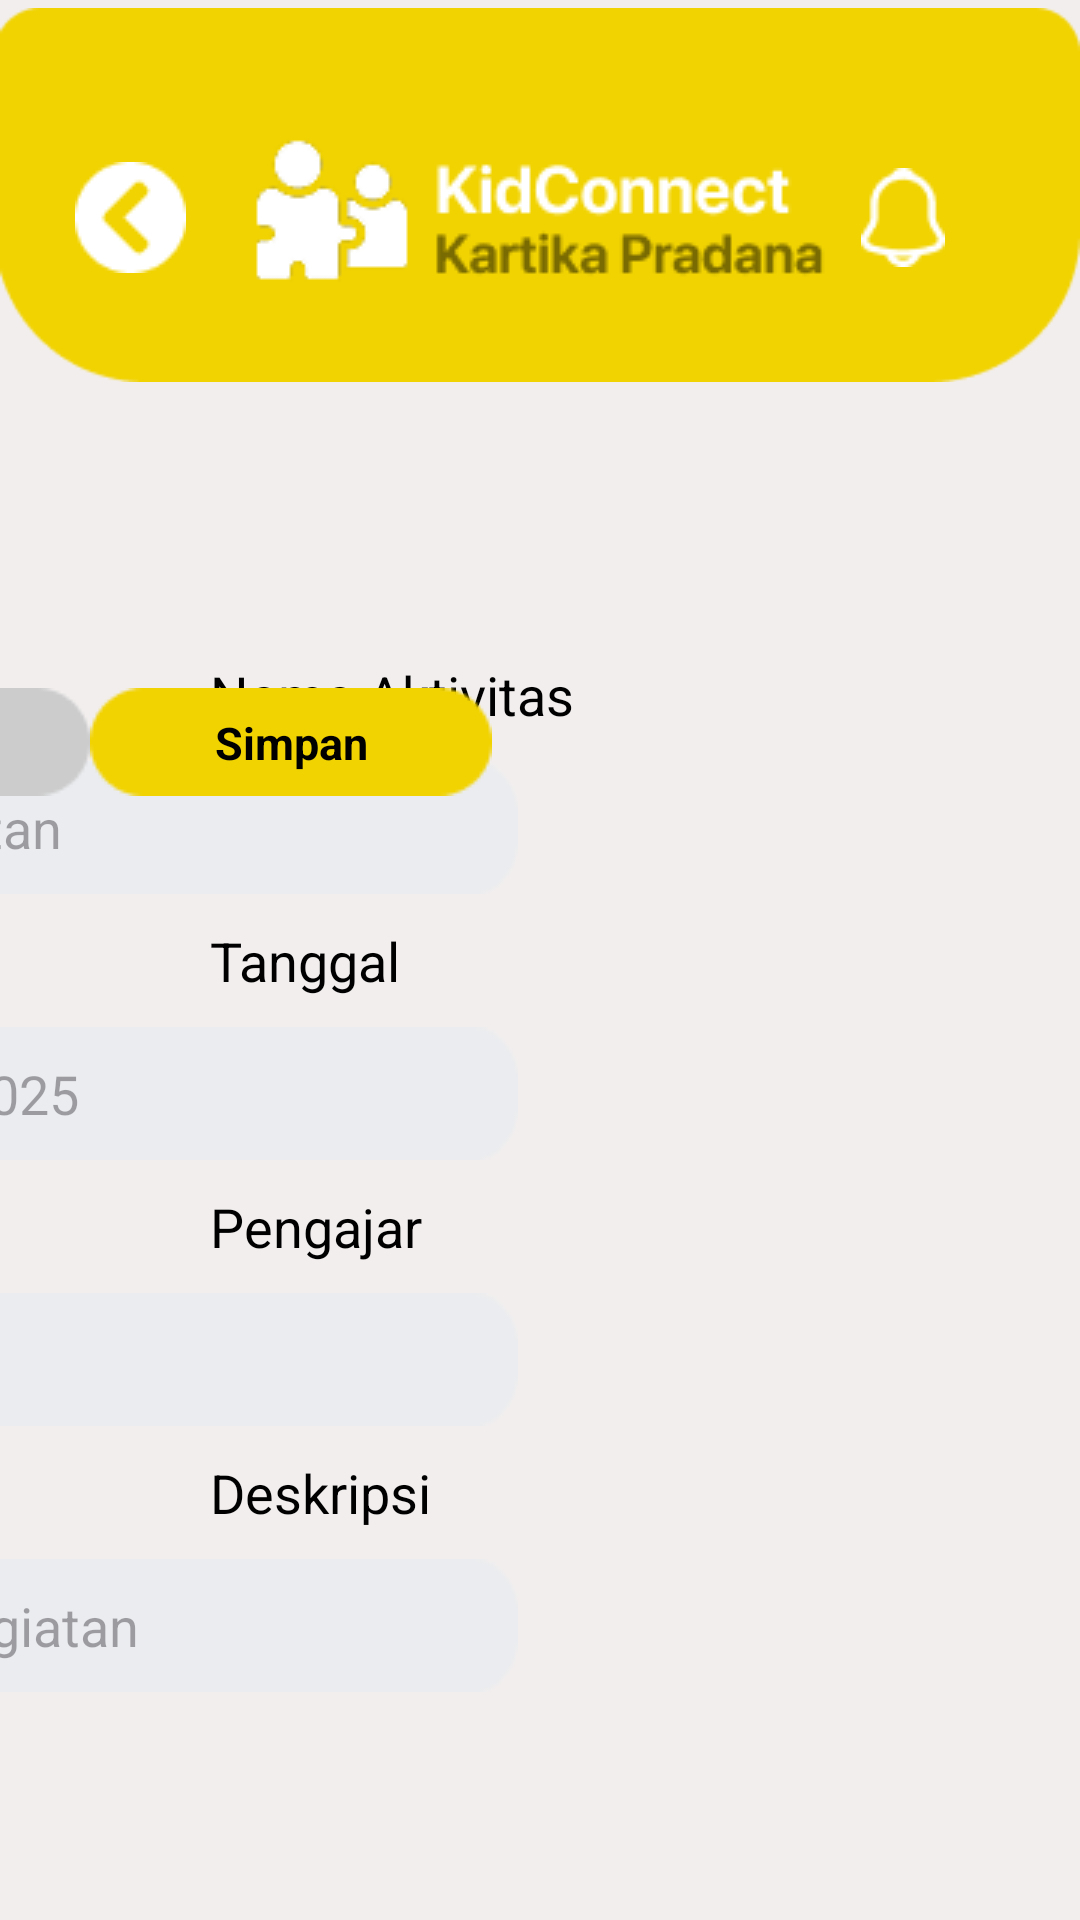

Screen size 1080×1920. Icon name, then its center in pixels as (x,y):
back: (130,217)
notif: (903,217)
